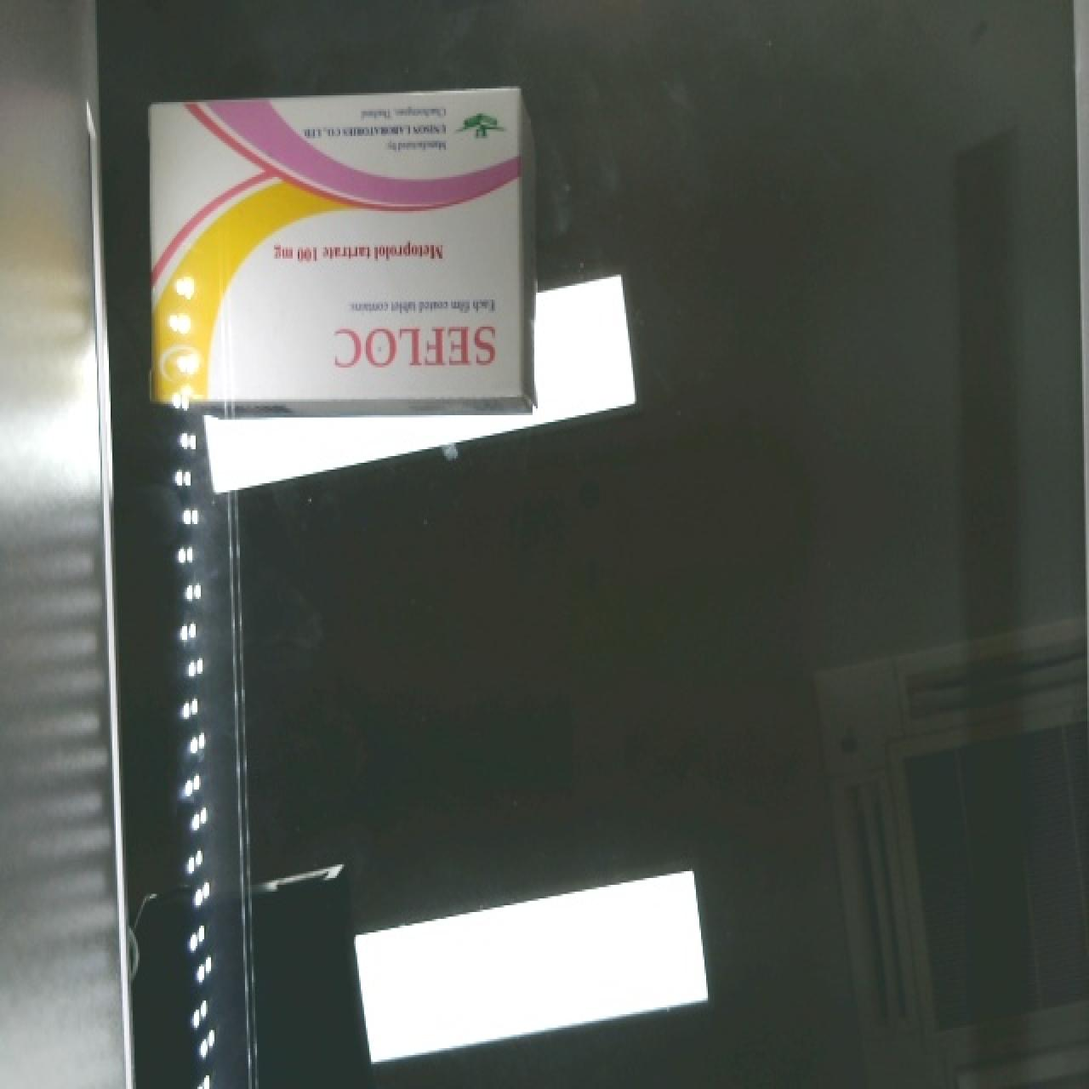medicine_label_obb: (320, 313, 516, 386)
